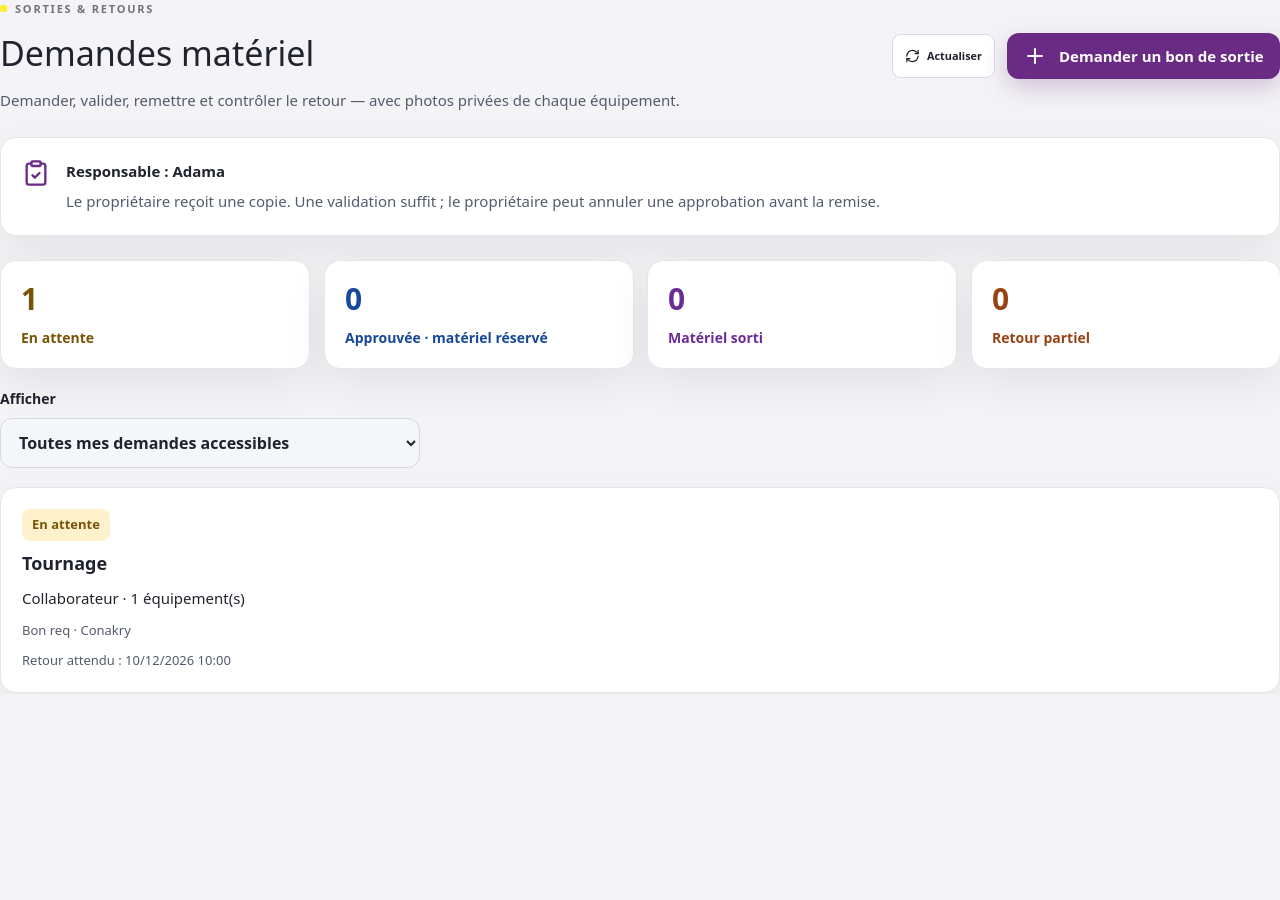
it: bons de matériel › affiche l’erreur serveur sans prétendre avoir approuvé
What coordinates should you click on to do the following:
click the text "Tournage"
I would click on:
 (64, 563)
Its box is top-left (22, 551), bottom-right (107, 576).
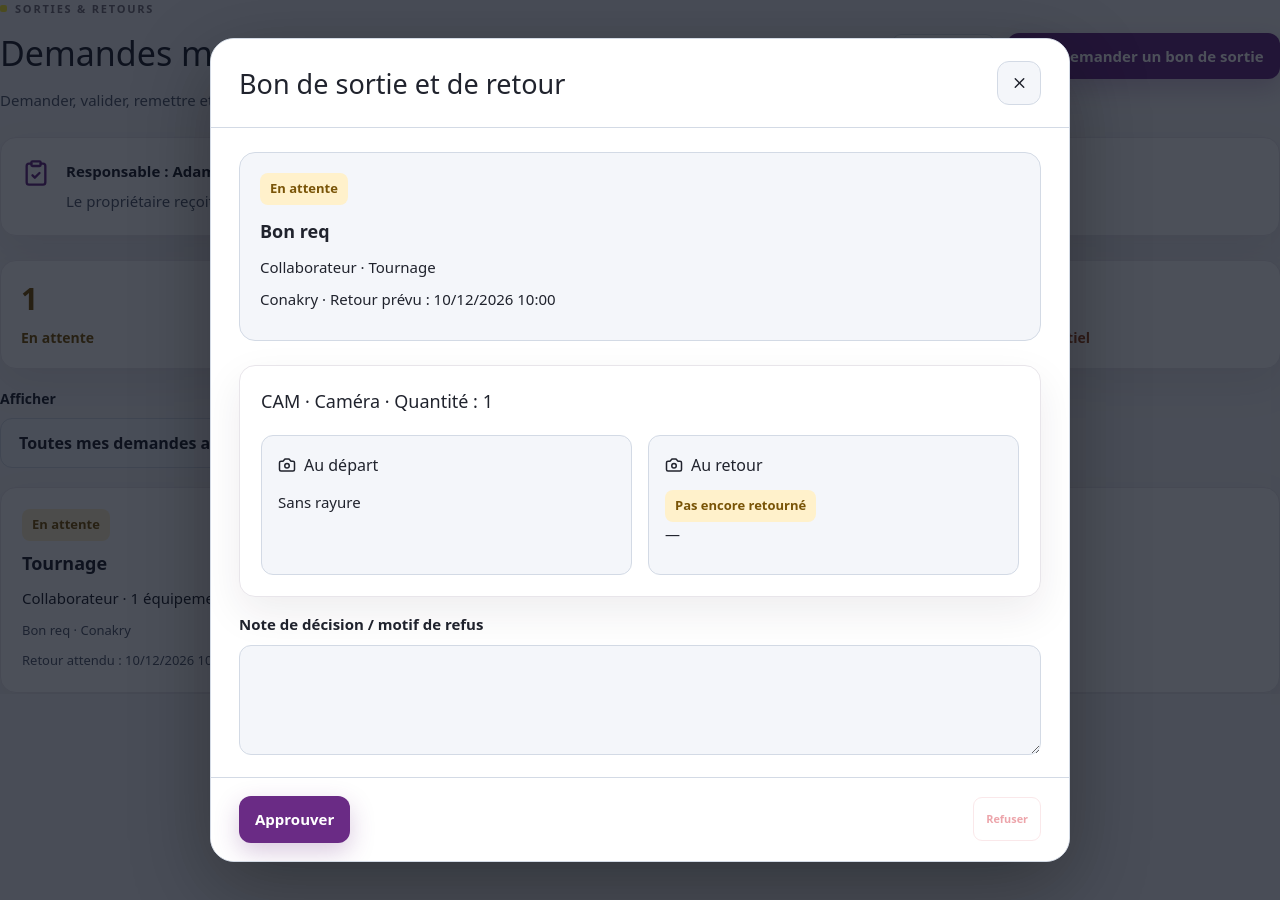
What coordinates should you click on to do the following:
click the button "Approuver"
I would click on:
 (295, 819)
Its box is top-left (239, 796), bottom-right (350, 843).
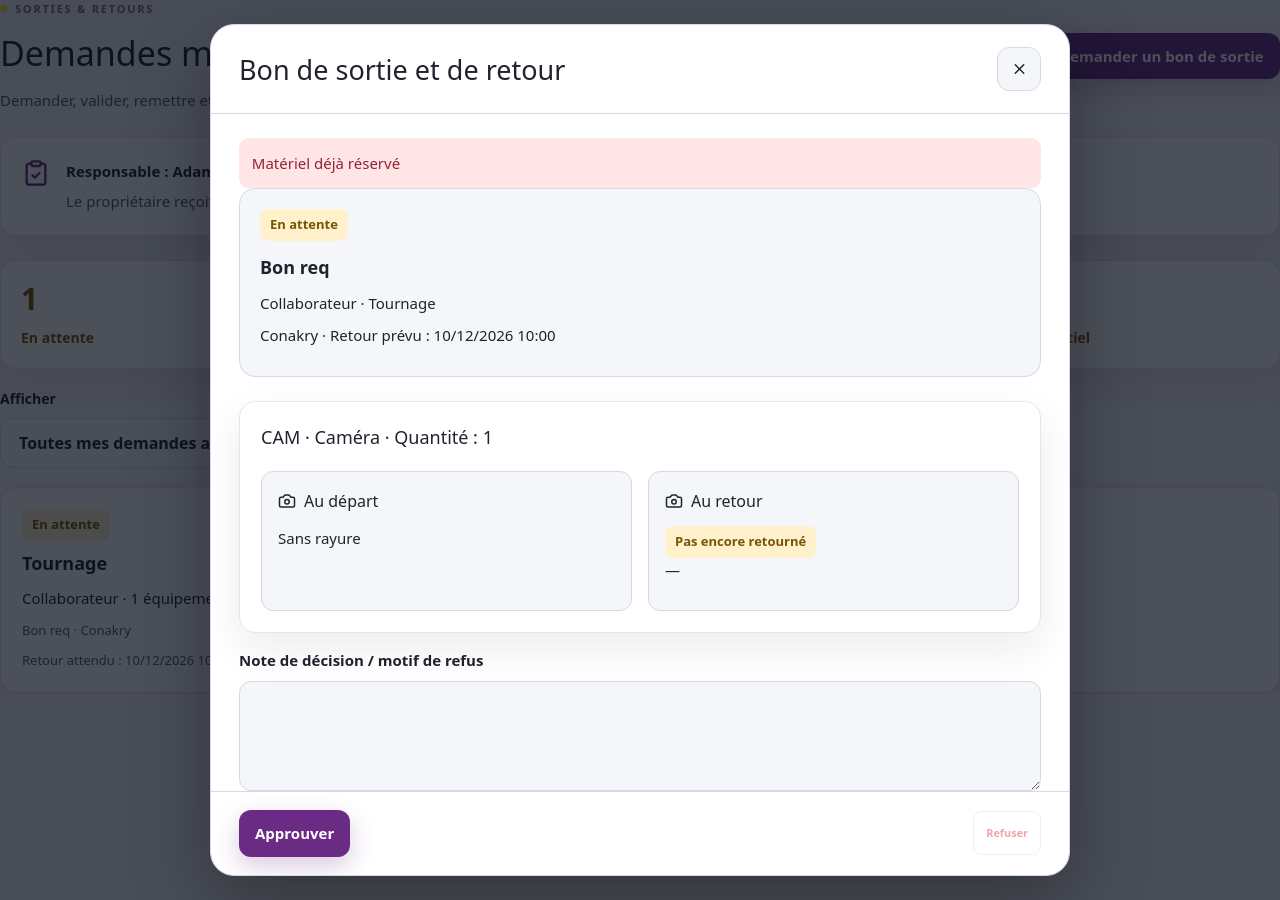
Check: the message reads "Matériel déjà réservé", box top-left (252, 153), bottom-right (400, 173)
